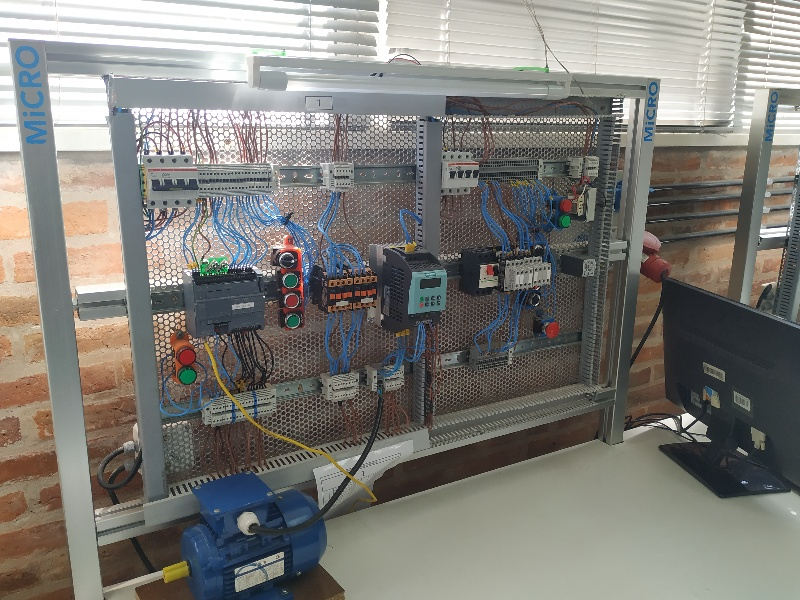Tablero 1: (124, 90, 630, 452)
